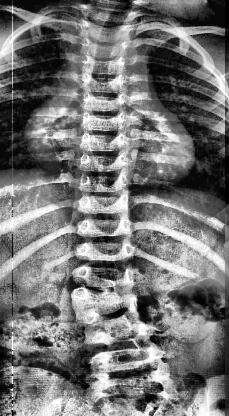Vertebrae: (86, 371, 176, 407), (87, 340, 167, 376), (78, 308, 151, 344), (73, 288, 141, 314), (75, 264, 136, 289), (78, 19, 134, 45), (78, 3, 144, 25), (75, 240, 133, 262), (76, 39, 132, 61), (82, 92, 132, 116), (76, 152, 130, 174), (80, 192, 128, 216), (78, 216, 130, 238), (78, 171, 128, 193), (78, 113, 130, 134), (80, 132, 128, 154), (78, 57, 128, 78), (80, 74, 128, 94)
